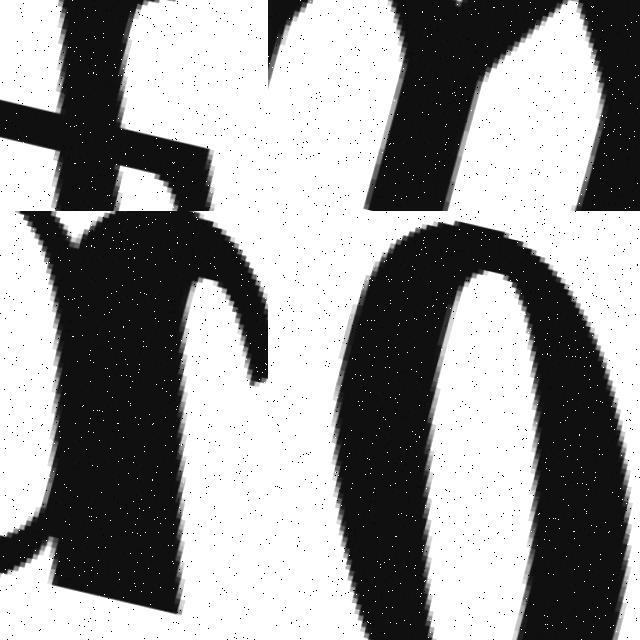0: (268, 211, 640, 640)
A: (0, 211, 268, 640)
W: (268, 0, 640, 211)
